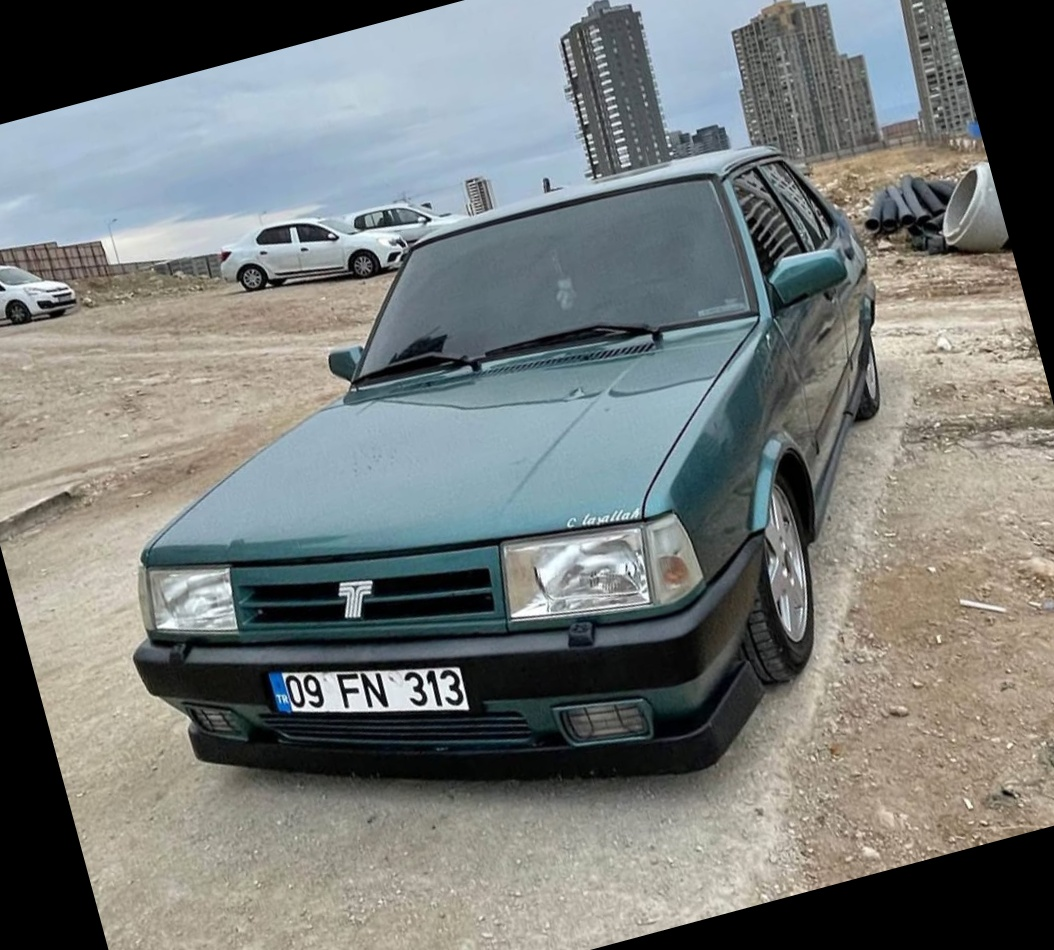plaka: (282, 657, 470, 720)
